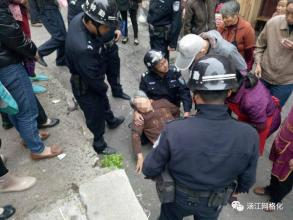10+: (1, 1, 292, 218)
down: (128, 86, 184, 174)
